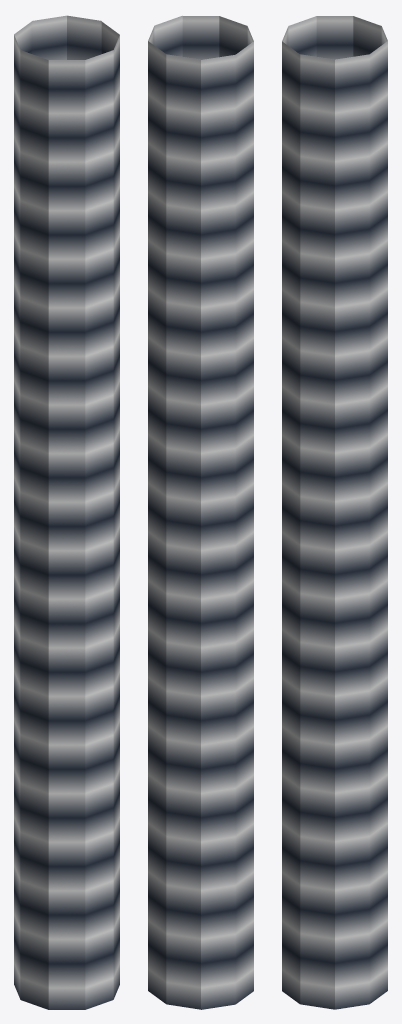
Rendered from TunnelV2.fbx.
The picture shows the model from 3 angles, left to right: view 1: azimuth 90°, elevation 25°; view 2: azimuth 150°, elevation 25°; view 3: azimuth 270°, elevation 25°; orthographic projection.
Parts seen in each view (by area): view 1: pCylinder1; view 2: pCylinder1; view 3: pCylinder1.
Boxes of the visible parts, x1=… form: pCylinder1: x1=14, y1=15, x2=119, y2=1009; pCylinder1: x1=148, y1=15, x2=253, y2=1009; pCylinder1: x1=282, y1=16, x2=387, y2=1009.
Size of the model in its own units: 0.7184 by 7.23 by 0.7295.
